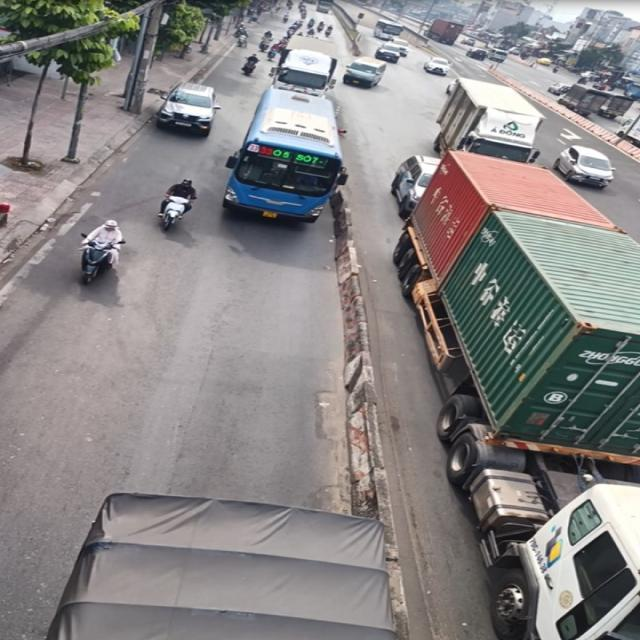bus: (221, 85, 346, 223)
car: (155, 81, 221, 136)
container-truck: (381, 146, 640, 640)
motorcycle: (78, 231, 124, 284), (157, 192, 196, 231)
person: (157, 178, 196, 219)
truck: (46, 490, 397, 640)
